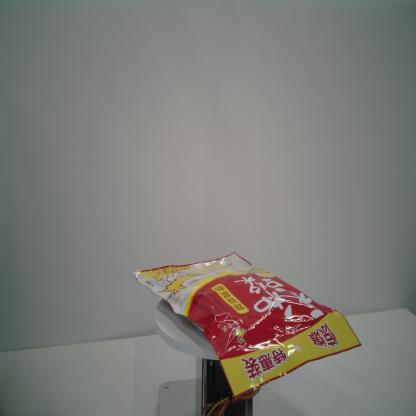Instant Drink: (133, 250, 363, 398)
